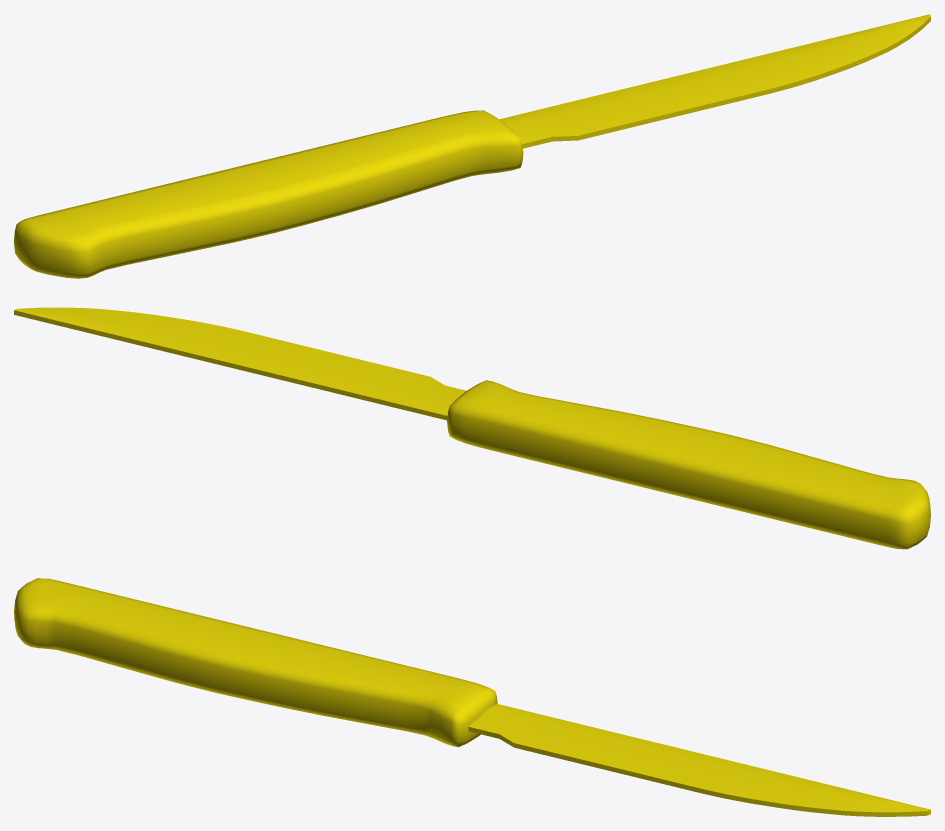
The model's file is Knife.fbx.
3 renders of one model, top to bottom at view 1: azimuth 30°, elevation 25°; view 2: azimuth 150°, elevation 25°; view 3: azimuth 330°, elevation 25°, orthographic.
Visible parts, largest first — view 1: Knife; view 2: Knife; view 3: Knife.
Boxes of the visible parts, box(x1,y1,x2,y2) form: Knife: box(14, 14, 930, 278); Knife: box(14, 307, 930, 549); Knife: box(14, 578, 930, 816).
Size of the model in its own units: 158 by 7.27 by 13.5.
